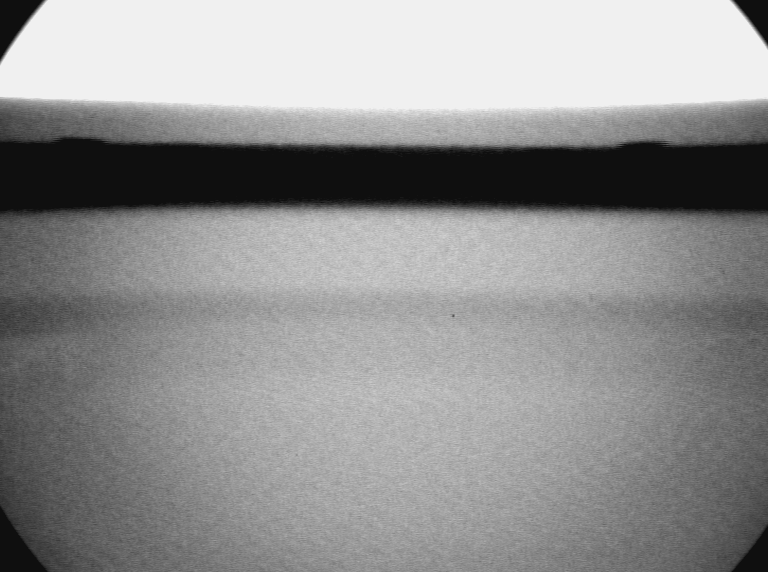defect: (4, 328, 102, 401)
